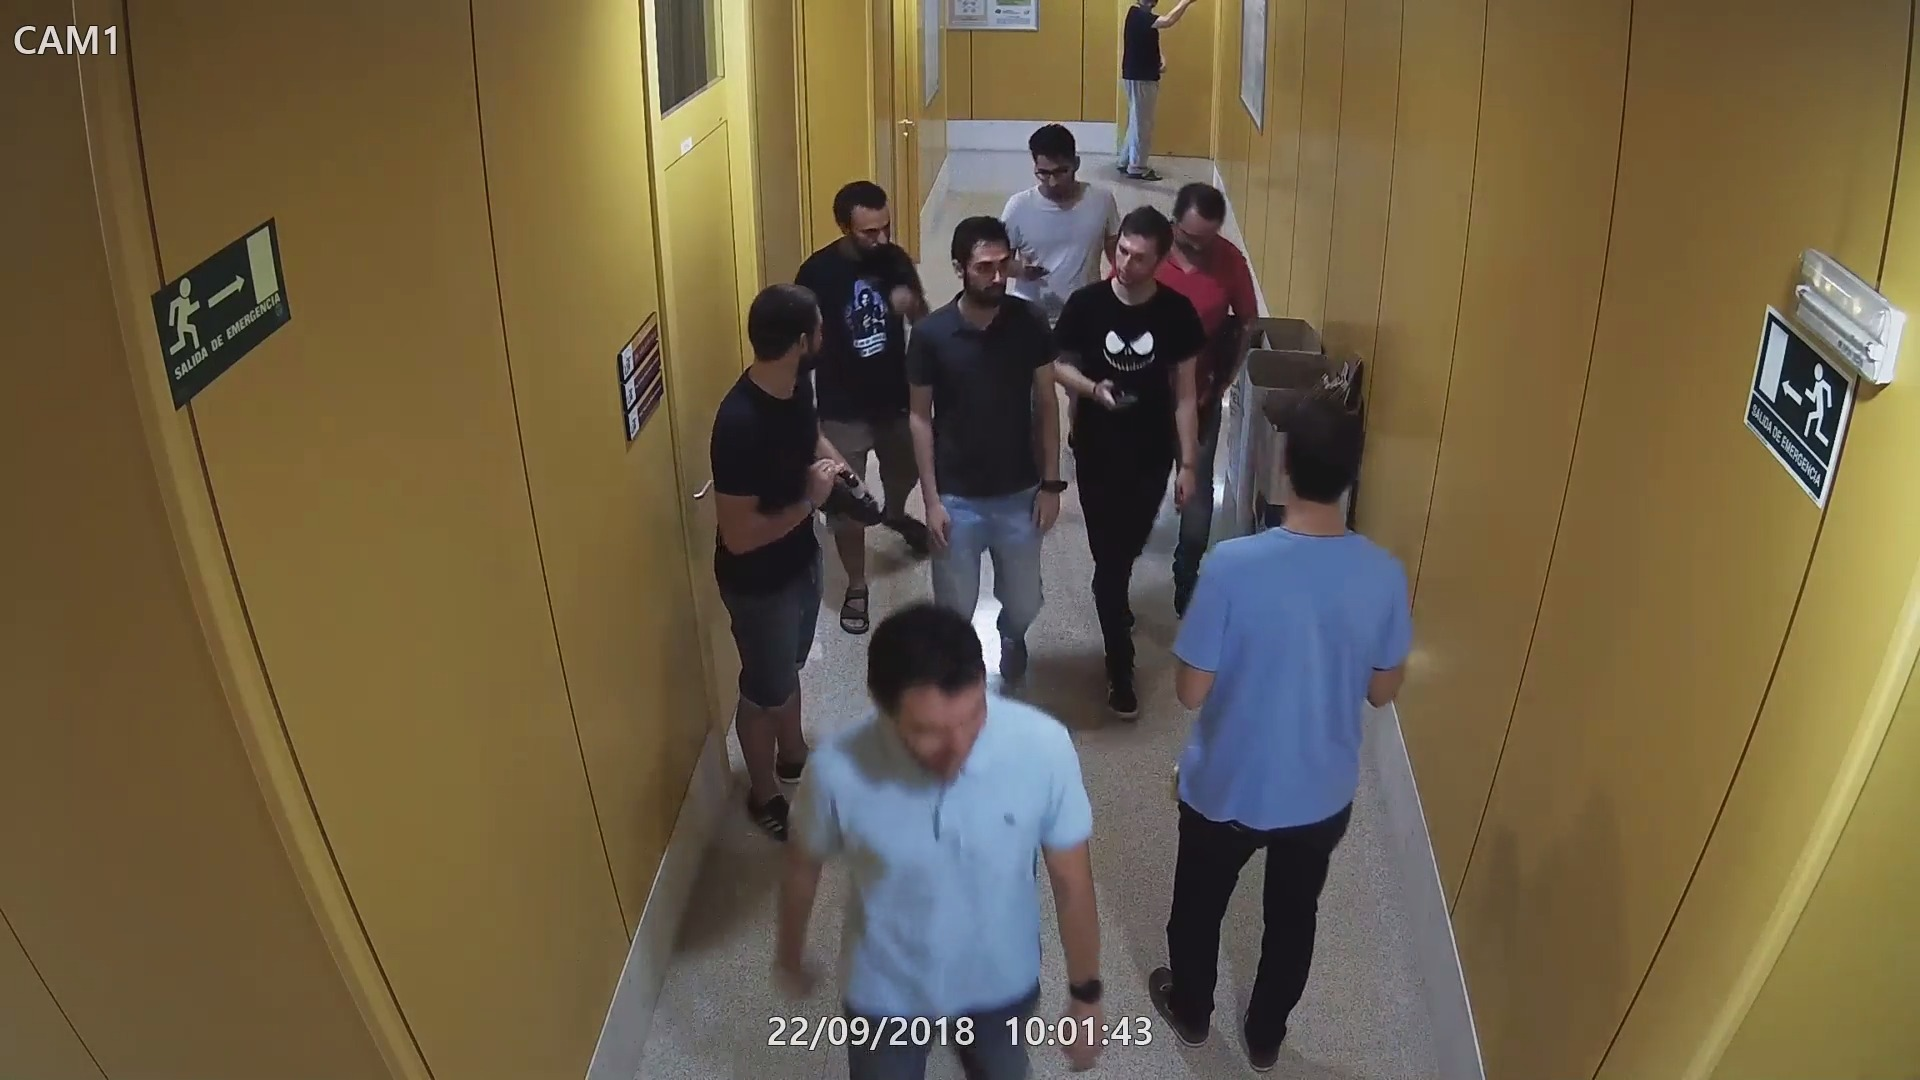rifle: (1196, 309, 1249, 438), (800, 460, 880, 526)
